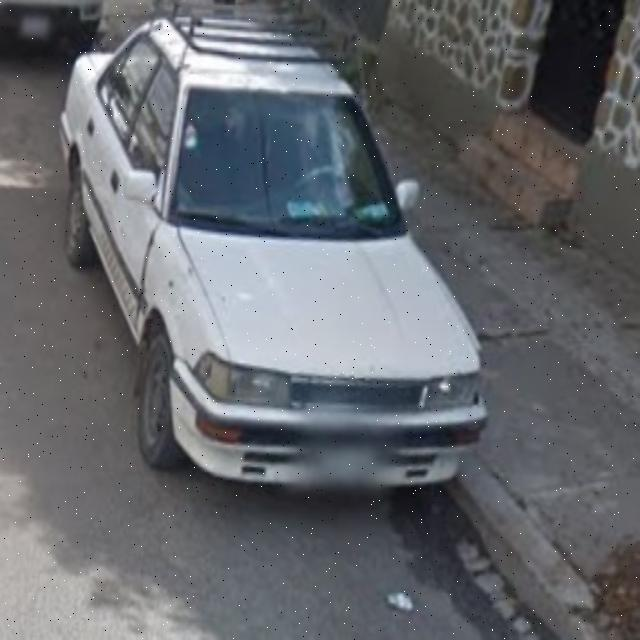cars: (59, 0, 490, 504)
